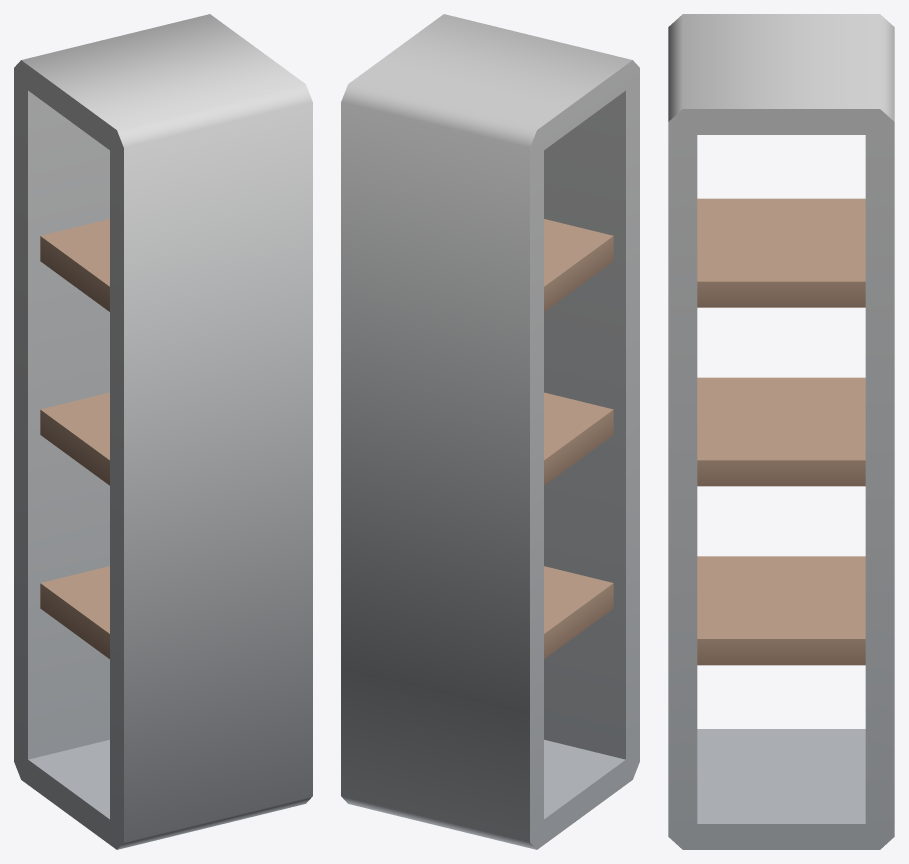
The model's file is cabinet-squares-narrow.glb.
3 views of the same model, side by side, from view 1: azimuth 30°, elevation 25°; view 2: azimuth 150°, elevation 25°; view 3: azimuth 270°, elevation 25° (orthographic). The views are drawn at different scales.
Parts seen in each view (by area): view 1: cabinet-squares-narrow; view 2: cabinet-squares-narrow; view 3: cabinet-squares-narrow.
Part boxes in pixels (bbox=[...]): cabinet-squares-narrow: bbox=[14, 14, 312, 849]; cabinet-squares-narrow: bbox=[341, 14, 639, 849]; cabinet-squares-narrow: bbox=[668, 14, 894, 849].
Bounding box in the file's own units: 0.39 × 1.42 × 0.3925.
